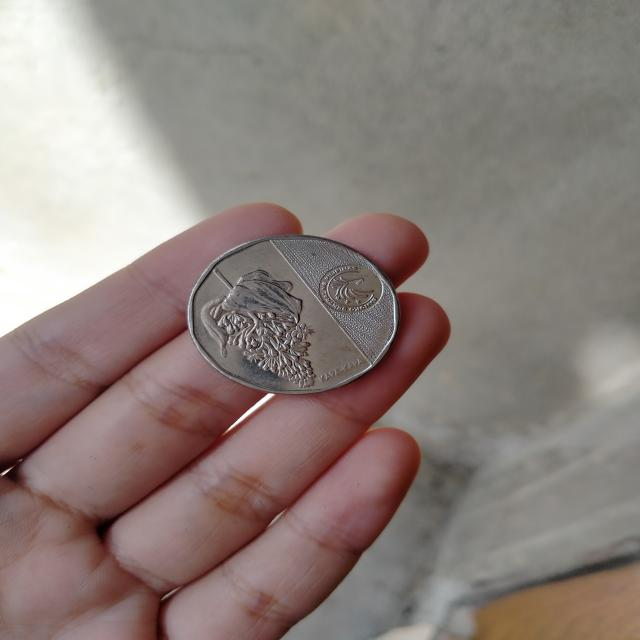10_New_Back: (191, 257, 328, 392)
